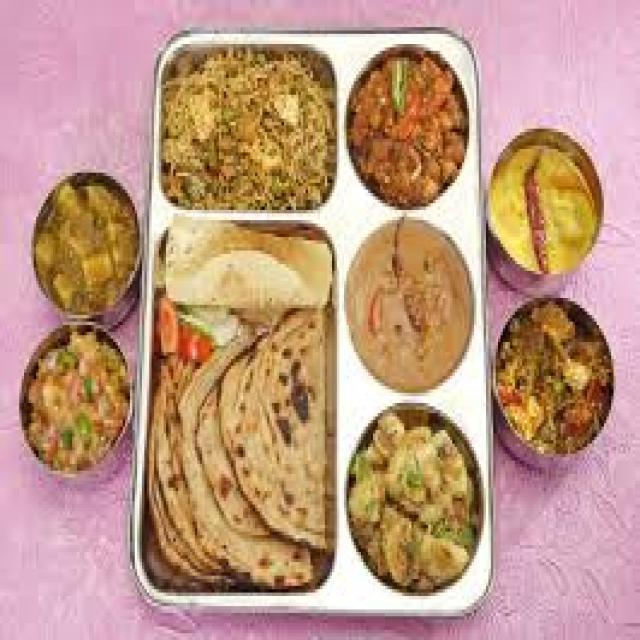rice: (160, 45, 337, 221)
roti: (154, 325, 323, 572)
